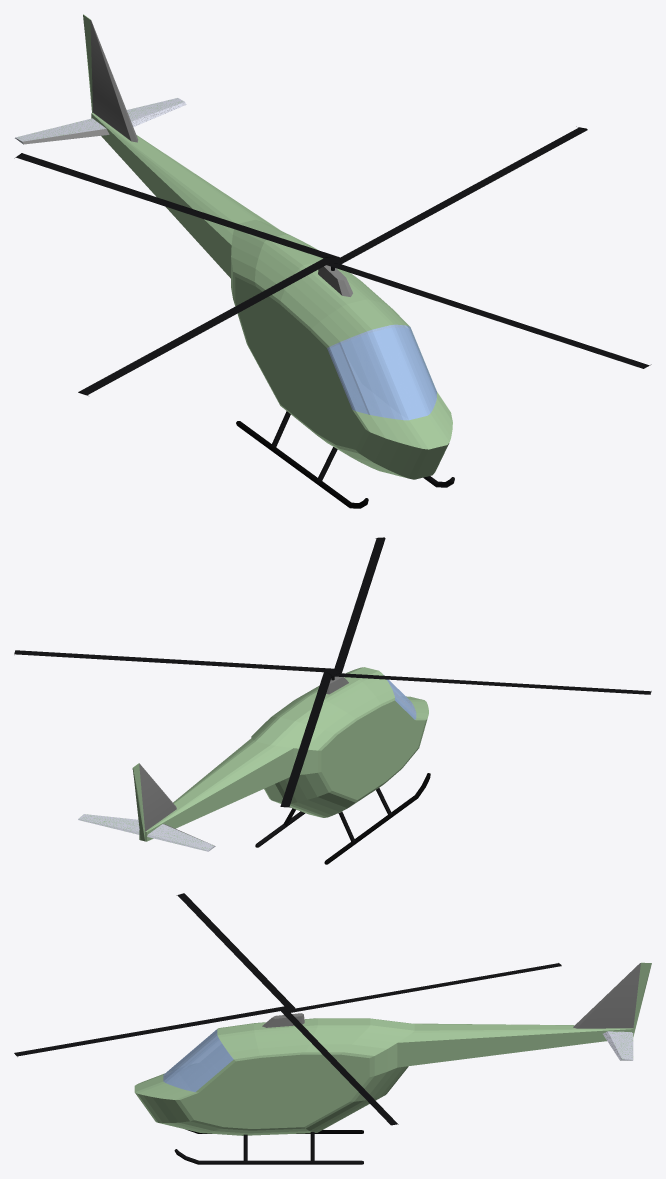
The picture shows the model from 3 angles, top to bottom: view 1: azimuth 30°, elevation 25°; view 2: azimuth 150°, elevation 25°; view 3: azimuth 270°, elevation 25°; orthographic projection. The views are drawn at different scales.
Parts seen in each view (by area): view 1: SketchUp.017, SketchUp.026, SketchUp.015, SketchUp.021, SketchUp.022, SketchUp.027, SketchUp.071, SketchUp.084; view 2: SketchUp.017, SketchUp.026, SketchUp.015, SketchUp.027, SketchUp.084, SketchUp.071, SketchUp.063; view 3: SketchUp.017, SketchUp.047, SketchUp.015, SketchUp.027, SketchUp.022, SketchUp.021, SketchUp.064, SketchUp.031, SketchUp.063.
Part boxes in pixels (box(x1,y1,x2,y2)): SketchUp.017: box(83, 14, 452, 479); SketchUp.026: box(236, 280, 362, 446); SketchUp.015: box(14, 126, 651, 395); SketchUp.021: box(329, 324, 434, 420); SketchUp.022: box(329, 328, 435, 419); SketchUp.027: box(90, 20, 138, 142); SketchUp.071: box(236, 421, 368, 508); SketchUp.084: box(15, 118, 108, 144); SketchUp.017: box(132, 667, 428, 841); SketchUp.026: box(322, 703, 423, 797); SketchUp.015: box(14, 537, 651, 807); SketchUp.027: box(139, 763, 176, 831); SketchUp.084: box(147, 824, 215, 851); SketchUp.071: box(324, 773, 430, 864); SketchUp.063: box(78, 814, 139, 834); SketchUp.017: box(134, 962, 651, 1135); SketchUp.047: box(183, 1056, 367, 1127); SketchUp.015: box(14, 893, 561, 1125); SketchUp.027: box(573, 963, 640, 1028); SketchUp.022: box(165, 1034, 232, 1091); SketchUp.021: box(163, 1029, 224, 1087); SketchUp.064: box(174, 1149, 363, 1164); SketchUp.031: box(177, 1047, 233, 1092); SketchUp.063: box(608, 1031, 633, 1060).
Size of the model in its own units: 121 by 141 by 45.54.
